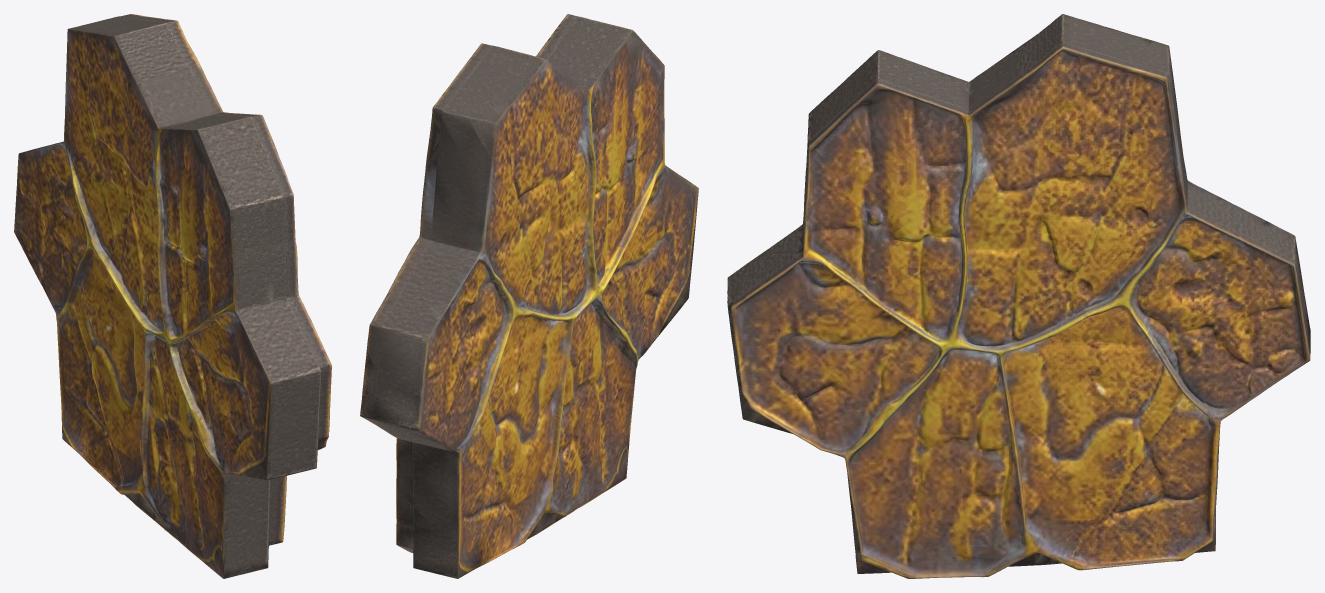
Rendered from flag-gold.glb.
The picture shows the model from 3 angles, left to right: view 1: azimuth 30°, elevation 25°; view 2: azimuth 150°, elevation 25°; view 3: azimuth 270°, elevation 25°; orthographic projection. The views are drawn at different scales.
Parts seen in each view (by area): view 1: tripo_node_9d05c327-edef-4fec-9396-cdccdc36c308; view 2: tripo_node_9d05c327-edef-4fec-9396-cdccdc36c308; view 3: tripo_node_9d05c327-edef-4fec-9396-cdccdc36c308.
Part boxes in pixels (bbox=[...]): tripo_node_9d05c327-edef-4fec-9396-cdccdc36c308: bbox=[14, 14, 331, 578]; tripo_node_9d05c327-edef-4fec-9396-cdccdc36c308: bbox=[360, 14, 698, 578]; tripo_node_9d05c327-edef-4fec-9396-cdccdc36c308: bbox=[727, 14, 1310, 578].
Size of the model in its own units: 0.1819 by 0.9998 by 0.999.
Materials: 1 (1 with a texture image).
